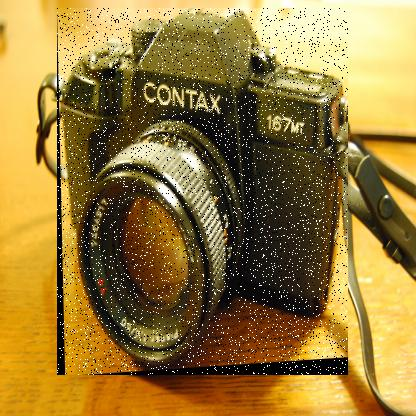Camera: (58, 9, 350, 377)
